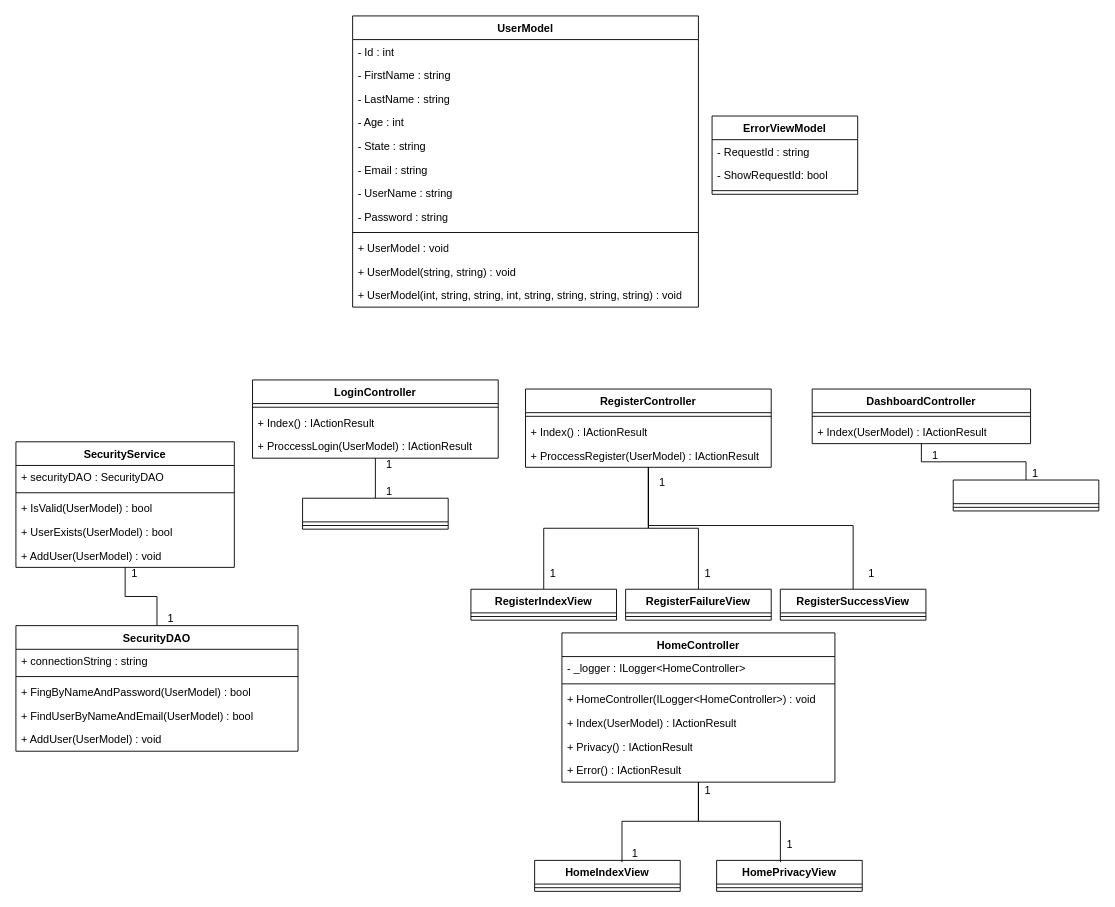
Some shapes in this 1115 by 907 pixel diagram are drawn without their labels. The centre of each missing label's shape, as x and y in pixels:
DashboardIndexView: the point at 1025,495
LoginIndexView: the point at 375,513
